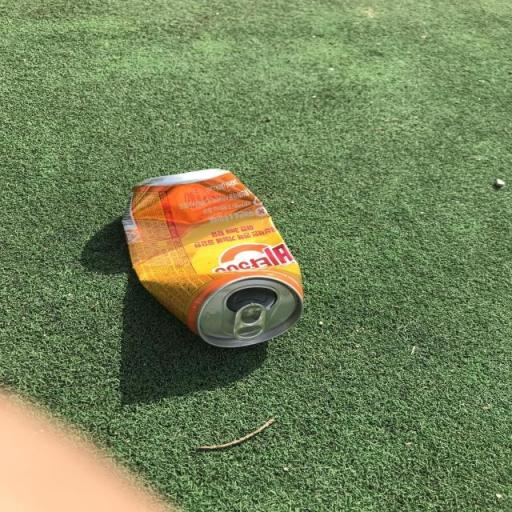metal: (90, 150, 346, 374)
